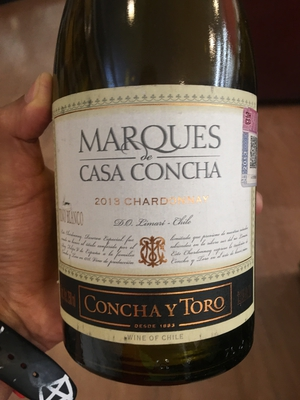marques de casa concha chardonnay: (53, 20, 260, 382)
